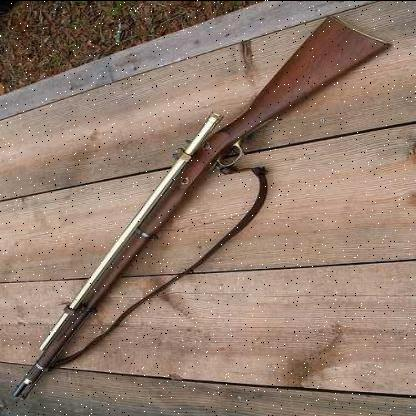rifle: (8, 6, 403, 396)
